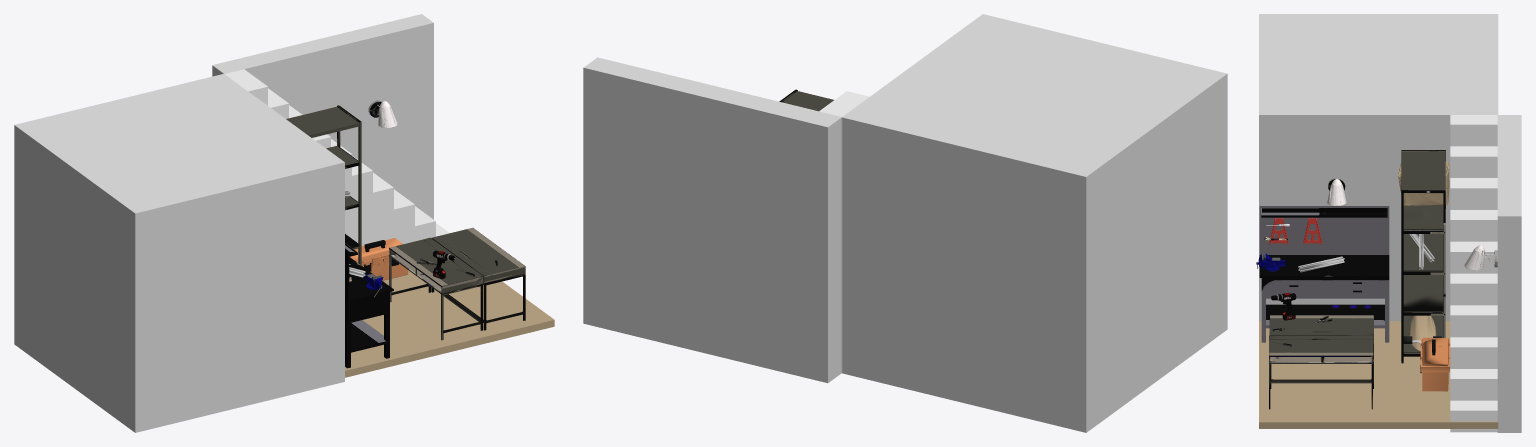
Rendered from sez3_room.glb.
The picture shows the model from 3 angles, left to right: view 1: azimuth 30°, elevation 25°; view 2: azimuth 150°, elevation 25°; view 3: azimuth 270°, elevation 25°; orthographic projection. The views are drawn at different scales.
Parts seen in each view (by area): view 1: Cube.004, Cube.021, Cube.017, Cube.010, desk.003, bend1.002, desk.004, steel_frame_shelves_01_1k.002, Tool_box1, lampa_perete.005; view 2: Cube.004, Cube.021, Cube.010, steel_frame_shelves_01_1k.002; view 3: Cube.004, Cube.010, Cube.017, bend1.002, Cube.021, steel_frame_shelves_01_1k.002, desk.004, desk.003, Tool_box1, cardboard_box_01_1k.004, Line001.004, lampa_perete.005 (+6 smaller).
Part boxes in pixels (x1,y1,x2,y2): Cube.004: [14, 74, 344, 432]; Cube.021: [212, 14, 433, 219]; Cube.017: [345, 270, 554, 377]; Cube.010: [225, 69, 449, 245]; desk.003: [389, 237, 483, 340]; bend1.002: [345, 243, 393, 368]; desk.004: [431, 227, 525, 330]; steel_frame_shelves_01_1k.002: [286, 105, 361, 265]; Tool_box1: [350, 238, 408, 280]; lampa_perete.005: [368, 100, 397, 127]; Cube.004: [842, 14, 1227, 432]; Cube.021: [583, 57, 841, 383]; Cube.010: [819, 91, 869, 373]; steel_frame_shelves_01_1k.002: [779, 89, 833, 111]; Cube.004: [1259, 14, 1498, 321]; Cube.010: [1450, 115, 1497, 432]; Cube.017: [1259, 321, 1498, 428]; bend1.002: [1259, 206, 1389, 342]; Cube.021: [1497, 115, 1521, 432]; steel_frame_shelves_01_1k.002: [1401, 150, 1445, 363]; desk.004: [1269, 335, 1373, 409]; desk.003: [1269, 315, 1373, 388]; Tool_box1: [1420, 337, 1450, 391]; cardboard_box_01_1k.004: [1398, 161, 1449, 205]; Line001.004: [1409, 315, 1436, 351]; lampa_perete.005: [1464, 245, 1497, 270].
Size of the model in its own units: 4 by 2 by 2.22.
Materials: 12 (5 with a texture image).
